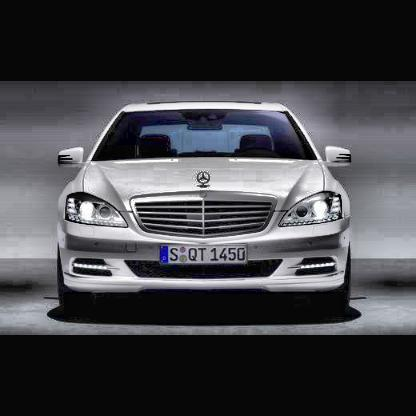Mercedes-Benz S-Class Sedan 2012: (50, 99, 358, 325)
